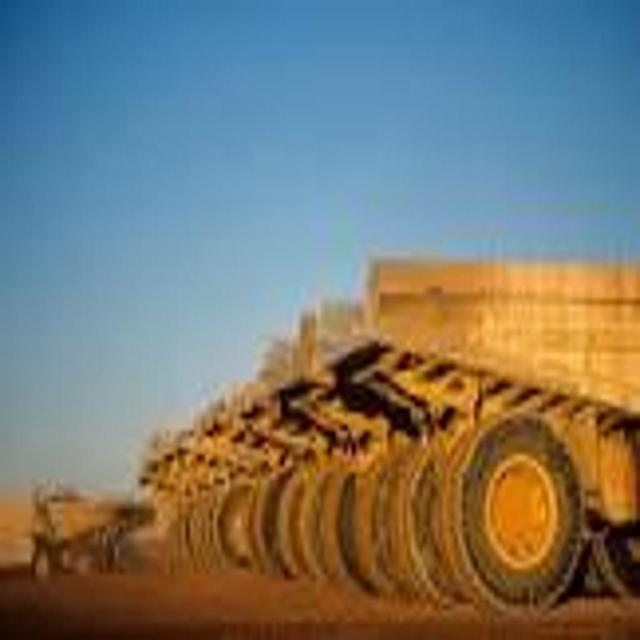dump_truck: (356, 178, 640, 640)
